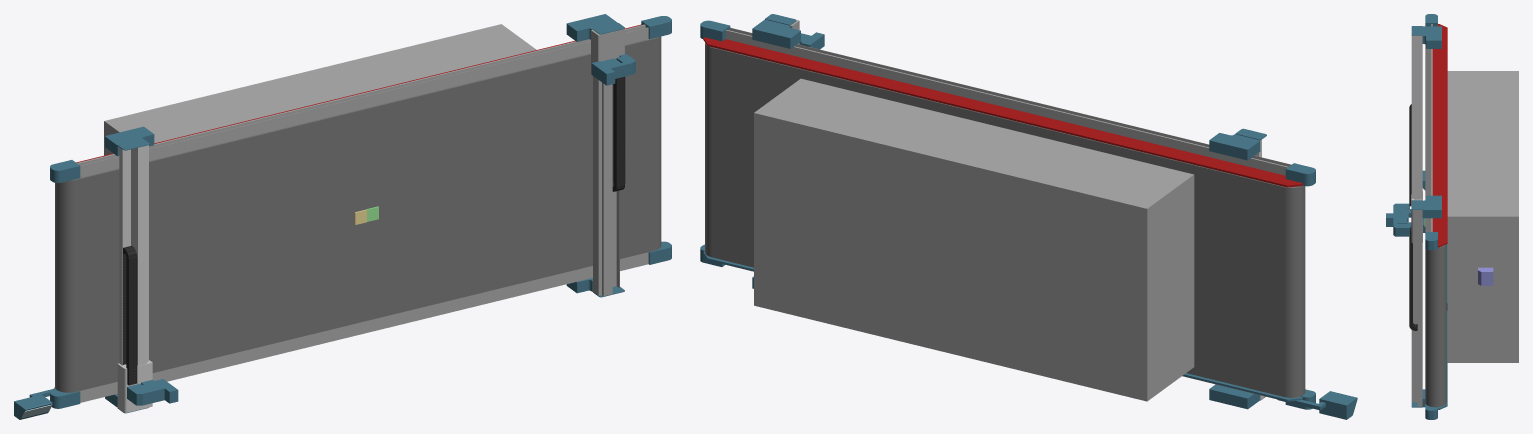
Rendered from m_machine1.obj.
3 views of the same model, side by side, from view 1: azimuth 30°, elevation 25°; view 2: azimuth 150°, elevation 25°; view 3: azimuth 270°, elevation 25° (orthographic). The views are drawn at different scales.
Visible parts, largest first — view 1: m_body, m_beam2, m_beam1, m_knife1, m_knife2; view 2: m_body, m_beam1, m_beam2; view 3: m_body, m_beam2, m_beam1, m_knife2, m_knife1.
Part boxes in pixels (box(x1,y1,x2,y2)): m_body: box(14, 16, 671, 419); m_beam2: box(566, 14, 625, 297); m_beam1: box(105, 126, 154, 413); m_knife1: box(127, 379, 178, 405); m_knife2: box(591, 54, 635, 85); m_body: box(700, 20, 1357, 419); m_beam1: box(1209, 128, 1266, 409); m_beam2: box(752, 14, 800, 288); m_body: box(1422, 14, 1518, 419); m_beam2: box(1409, 195, 1441, 407); m_beam1: box(1409, 26, 1441, 232); m_knife2: box(1386, 215, 1411, 236); m_knife1: box(1386, 203, 1411, 217).
Bounding box in the file's own units: 555 × 214 × 130.
